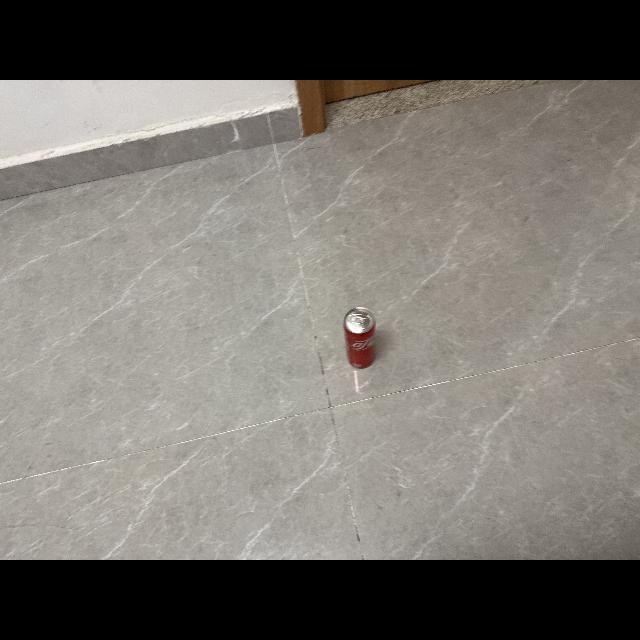Cola: (340, 304, 380, 372)
